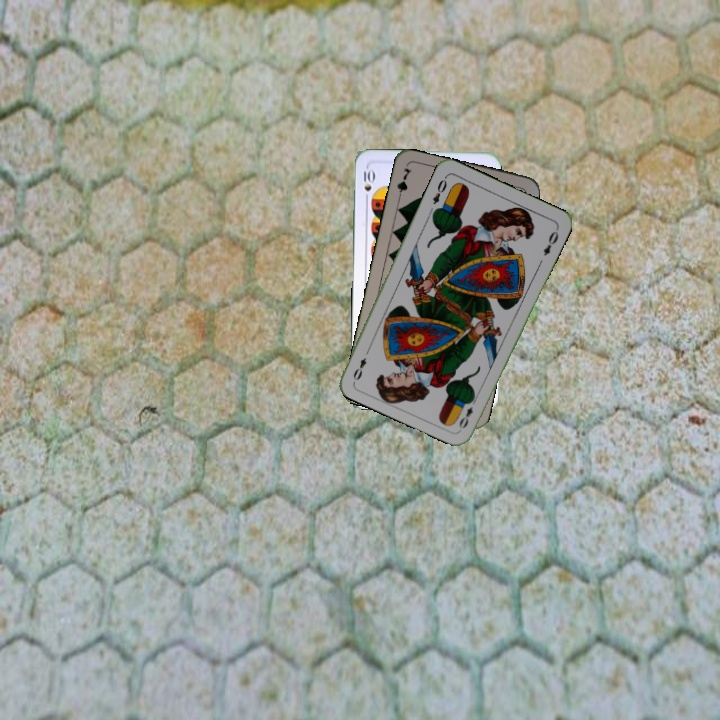EO: (455, 393, 479, 431), (428, 172, 449, 207)
G7: (393, 164, 414, 204)
S10: (360, 165, 376, 204)
